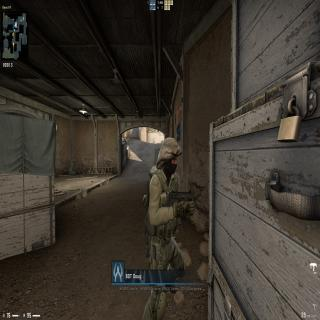CT-Head: (156, 135, 182, 178)
